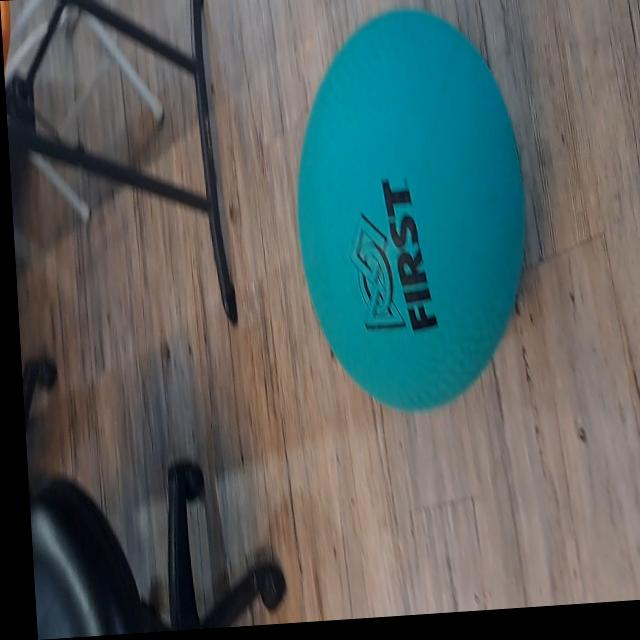ALGAE: (283, 0, 538, 421)
